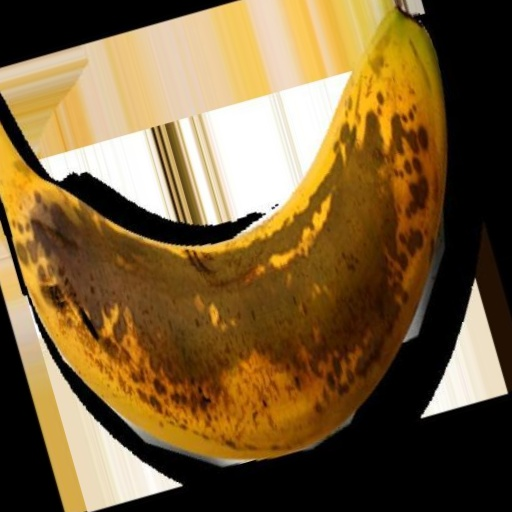fruit: (394, 17, 501, 245)
